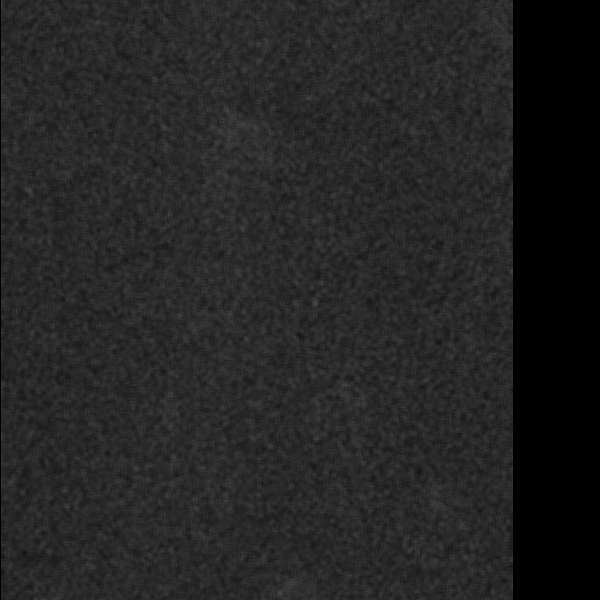spark: (252, 418, 314, 477), (313, 483, 352, 534)
